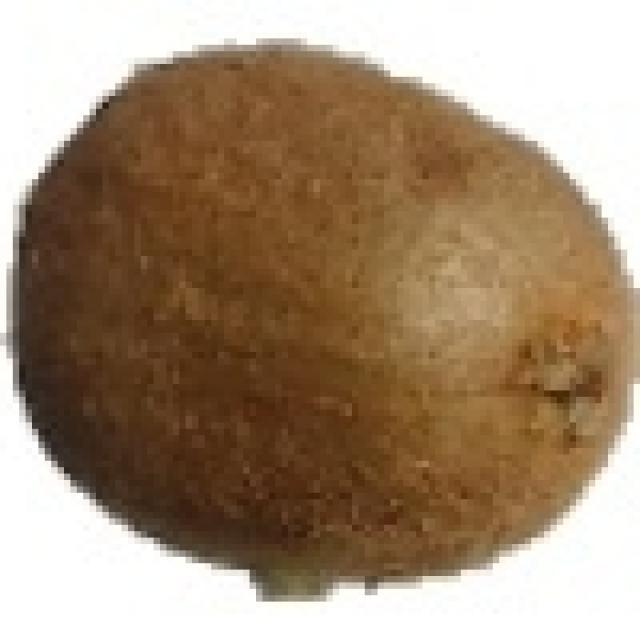kiwi: (26, 38, 634, 582)
